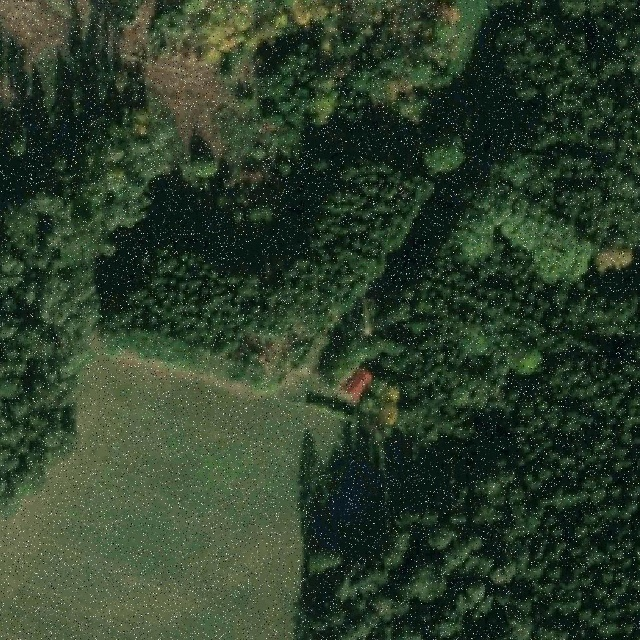vegetation: (0, 0, 640, 640)
